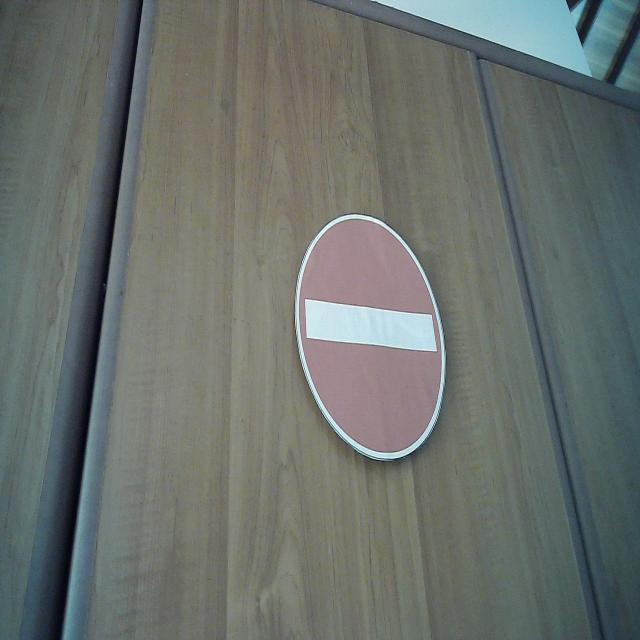no_entry: (294, 212, 448, 463)
